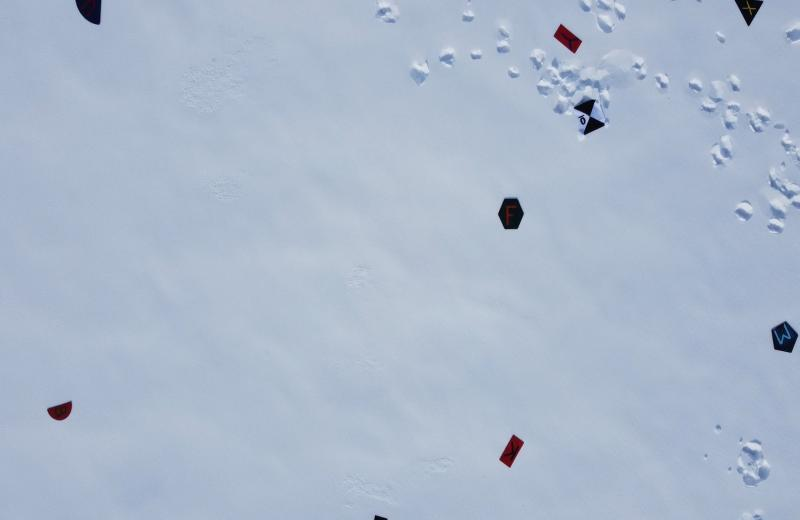Hexagon: (497, 194, 525, 232)
Pentagon: (770, 320, 798, 355)
Quarter Circle: (76, 0, 103, 26)
Rectangle: (497, 431, 526, 470), (553, 23, 584, 55)
Semi Circle: (44, 398, 74, 420)
Triangle: (731, 0, 767, 28)
